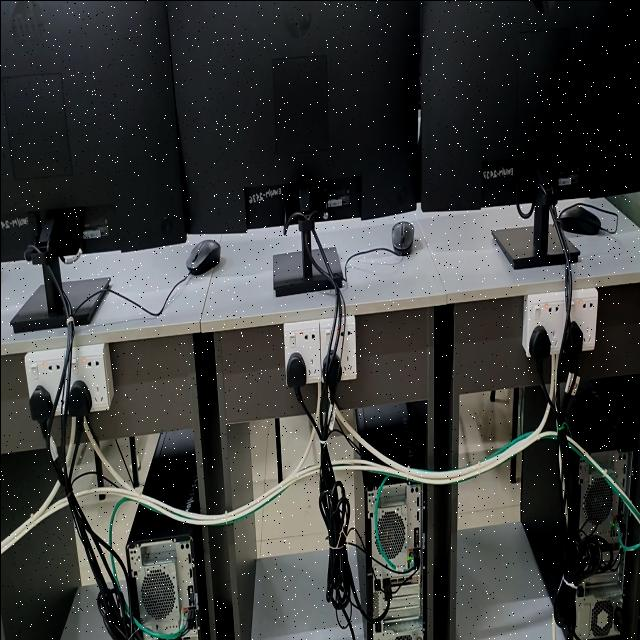Cpu: (520, 384, 632, 640), (362, 471, 427, 640), (125, 506, 202, 640), (354, 401, 426, 468), (143, 434, 197, 509), (521, 386, 545, 429)
Monitor: (166, 0, 419, 232), (420, 0, 640, 210), (0, 0, 184, 250), (77, 93, 82, 102)
Mouse: (559, 203, 601, 233), (186, 239, 219, 273), (391, 220, 413, 254)
